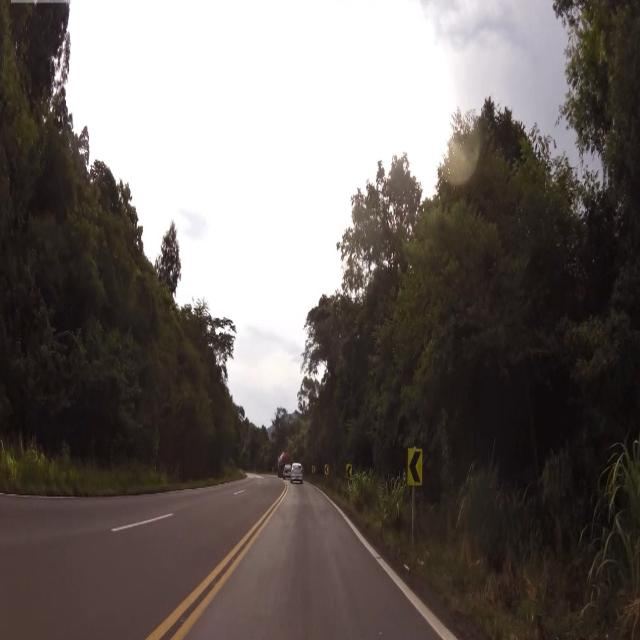Del: (408, 444, 425, 490)
